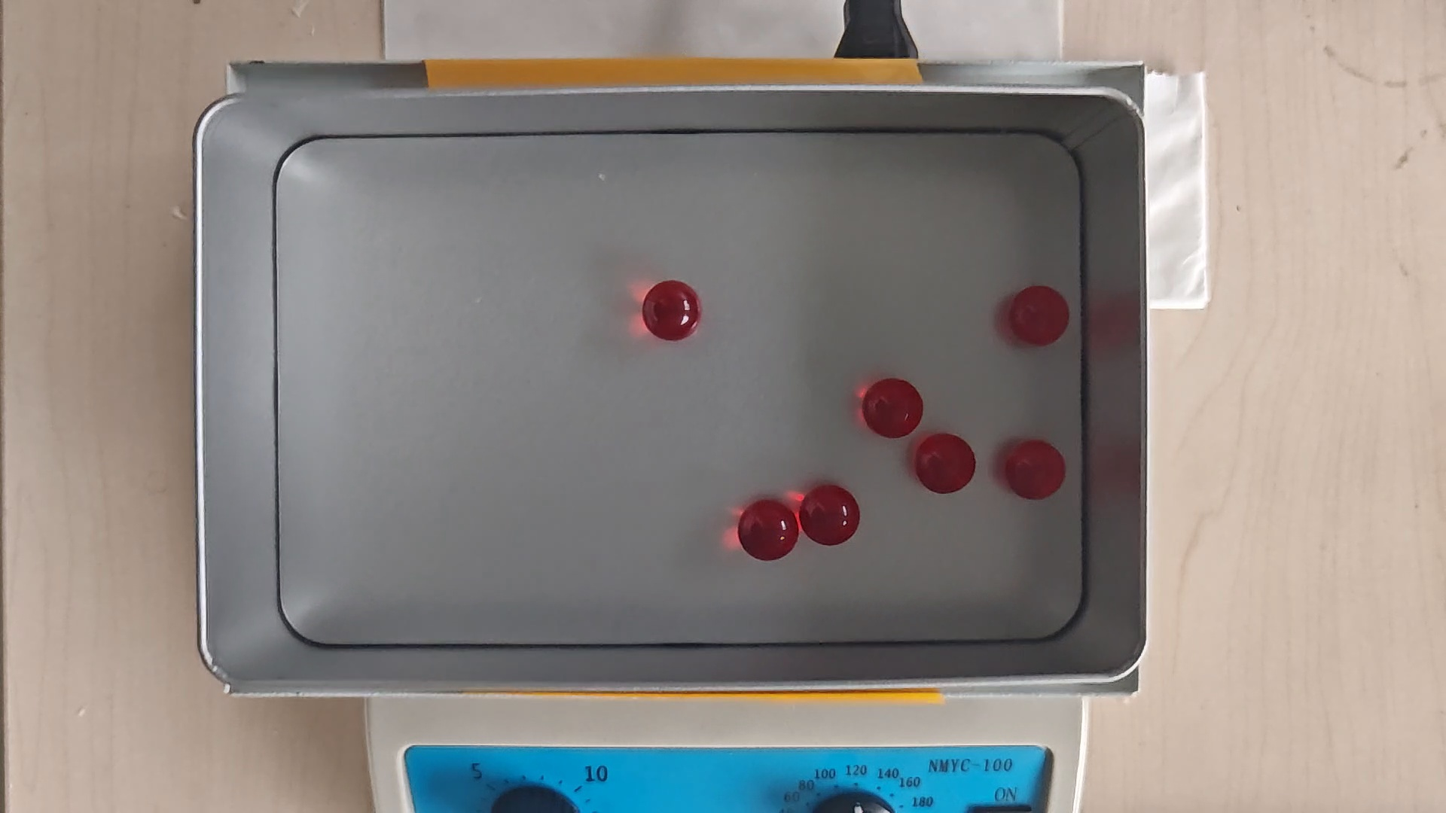ball: (737, 499, 800, 562), (1004, 438, 1066, 501), (641, 279, 702, 343), (862, 377, 923, 440), (914, 434, 977, 495), (1008, 285, 1069, 347), (801, 485, 861, 547)
container: (273, 131, 1088, 644)
